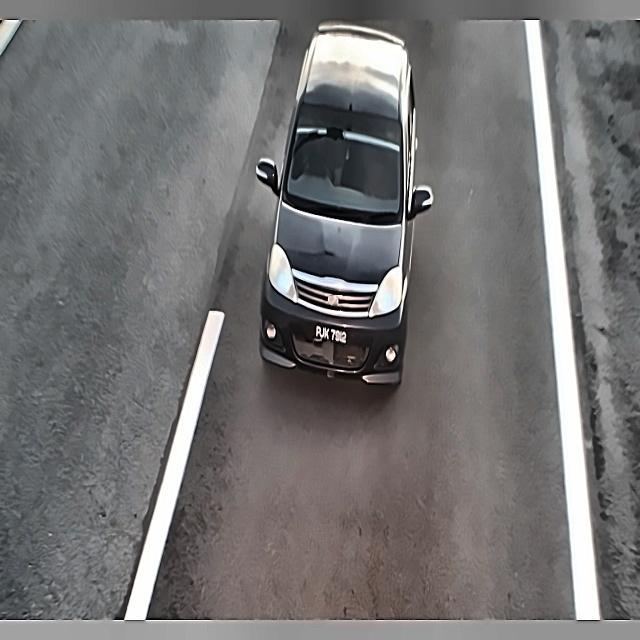car: (310, 315, 351, 356)
